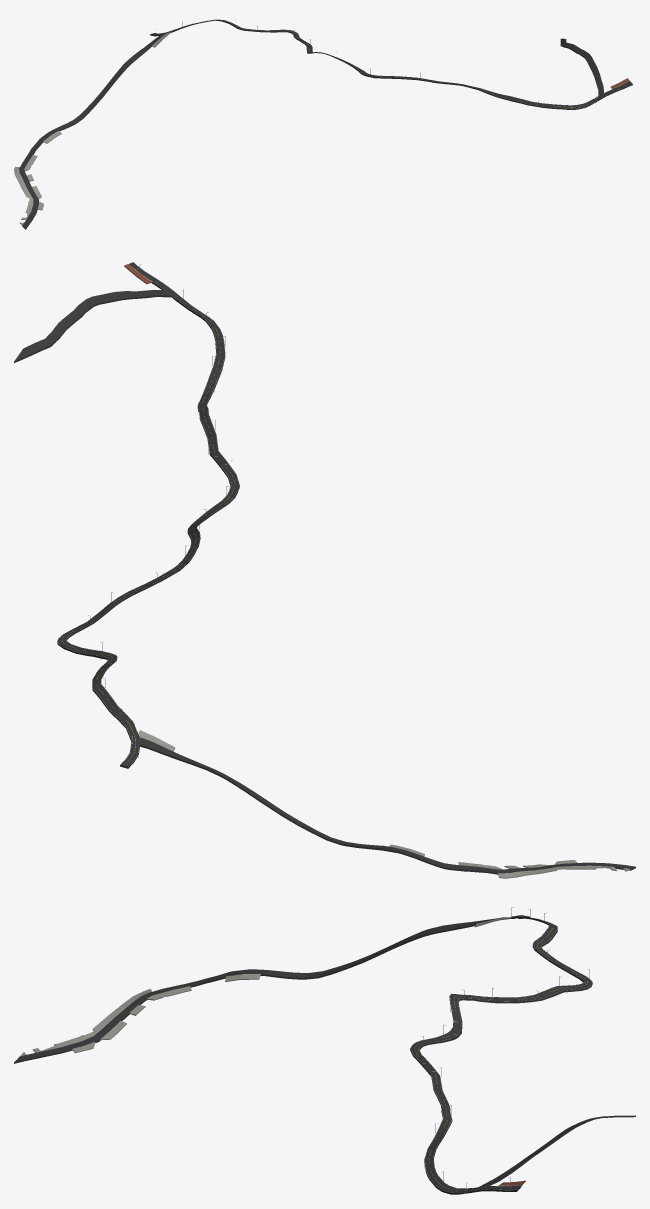
Rendered from 16-54726-29720.577e8bde.glb.
3 views of the same model, one above another, from view 1: azimuth 30°, elevation 25°; view 2: azimuth 150°, elevation 25°; view 3: azimuth 330°, elevation 25° (orthographic). The views are drawn at different scales.
Bounding box in the file's own units: 590 × 186 × 542.
